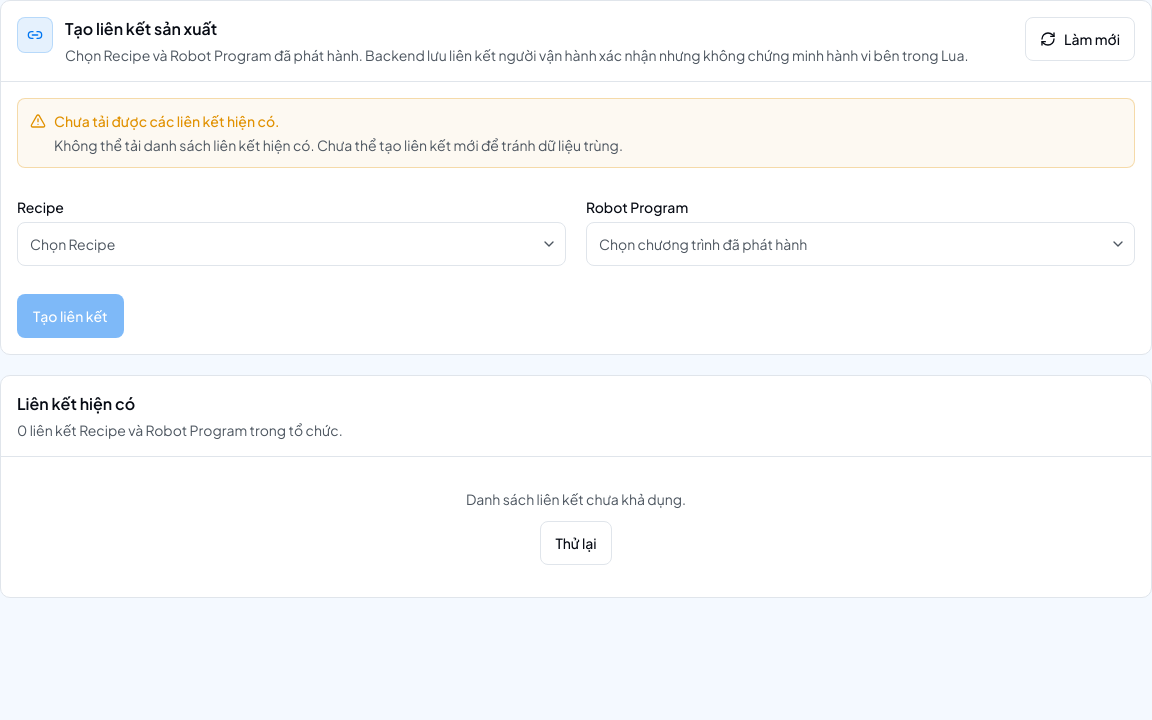
Test case: ProductionProgramBindingsPanel › keeps Recipe and Robot Program selectable when the bindings list fails
Expected: the dropdown named "Robot Program" is enabled, [586,222,1135,266]
Expected: the text "Chưa tải được các liên kết hiện có." is shown, [54,112,280,130]
Click the dropdown labelled "Recipe" at point(73, 244), box [17,222,566,266]
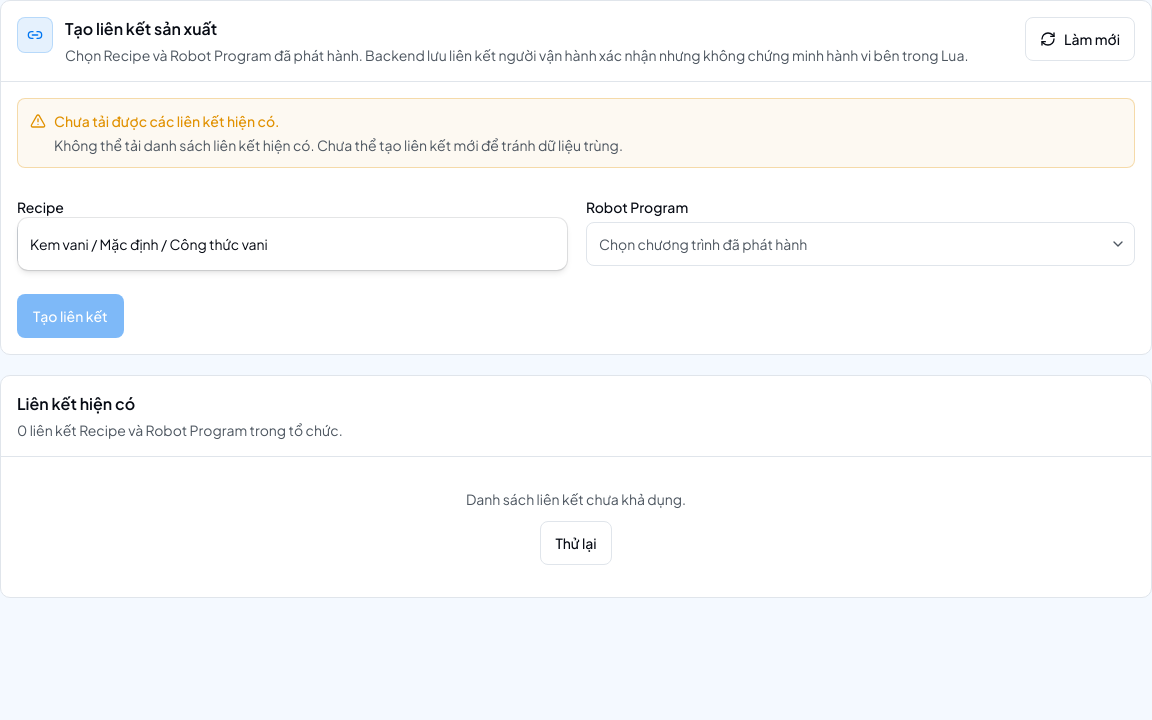
Click the option "Kem vani / Mặc định / Công thức vani" at point(149, 244), box [30,235,268,253]
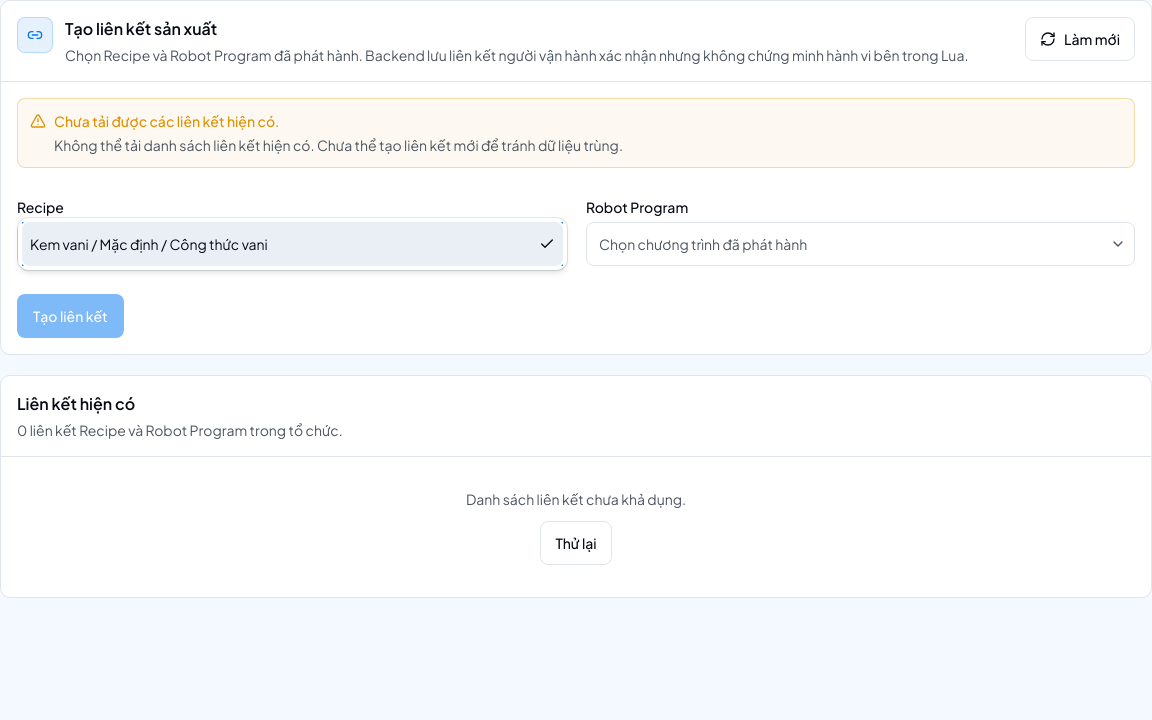
Now the dropdown named "Recipe" shows "Kem vani · Mặc định", box [17,222,566,266]
Click the dropdown named "Robot Program" at point(703, 244), box [586,222,1135,266]
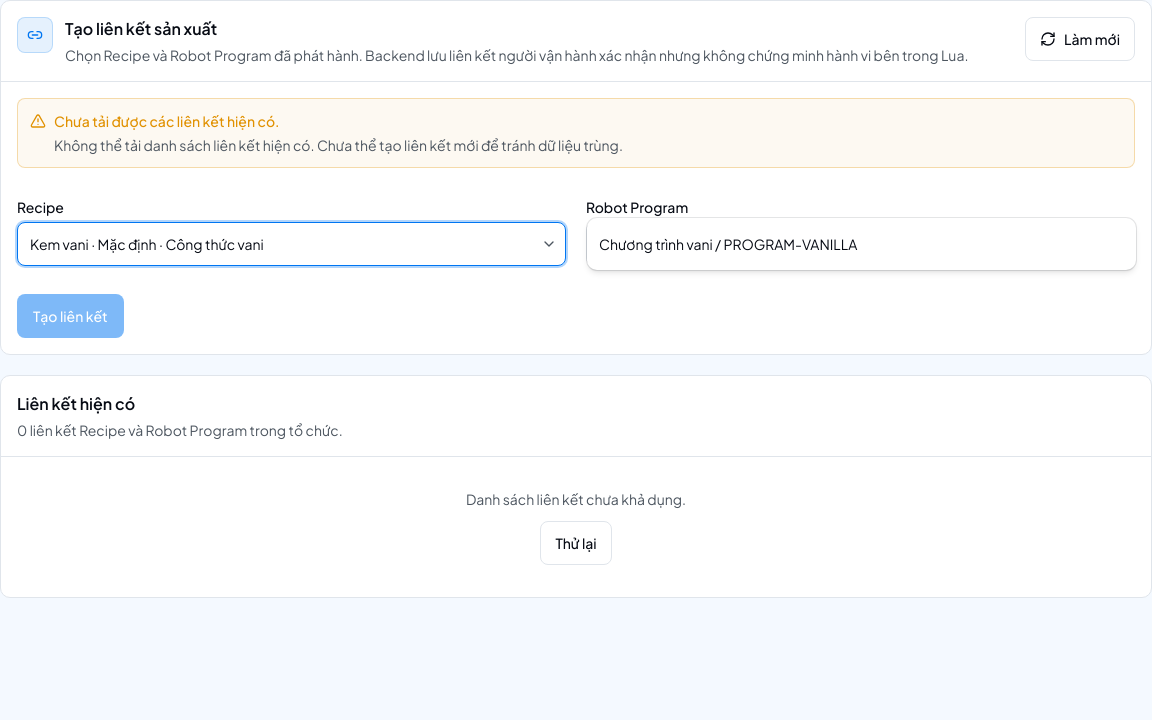
Click the option "Chương trình vani / PROGRAM-VANILLA" at point(728, 244), box [599,235,857,253]
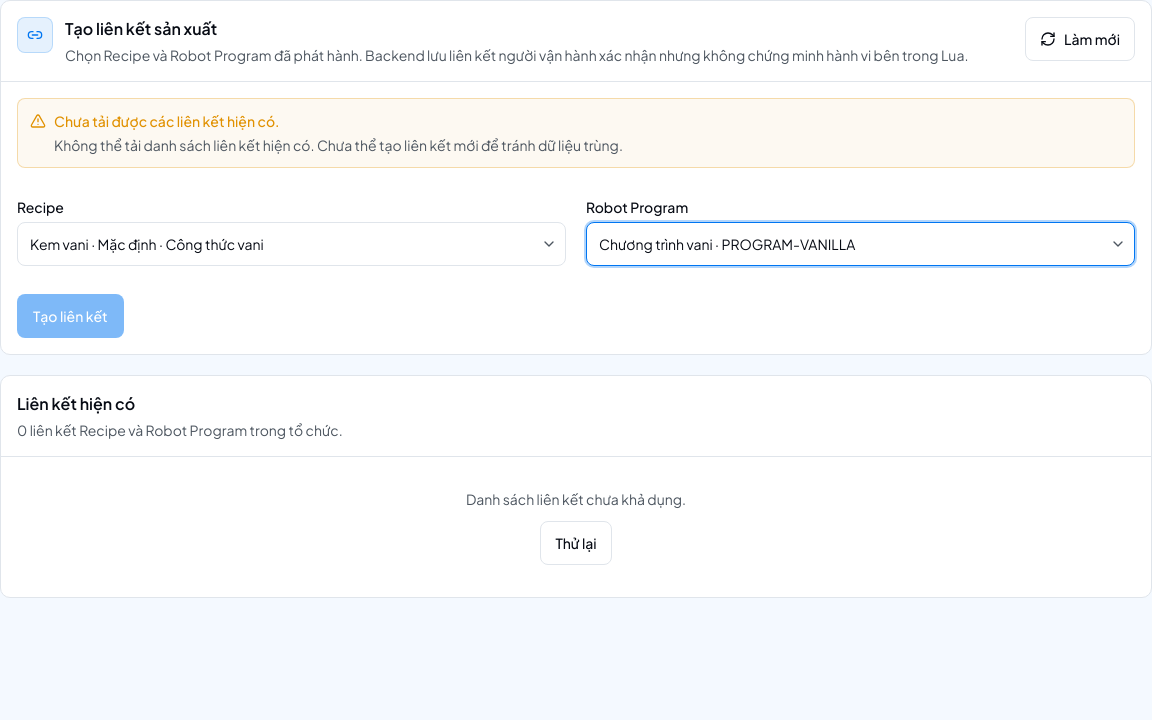
Expected: the button "Tạo liên kết" is disabled, [17,294,124,338]
Now the dropdown named "Robot Program" shows "Chương trình vani · PROGRAM-VANILLA", box [586,222,1135,266]
